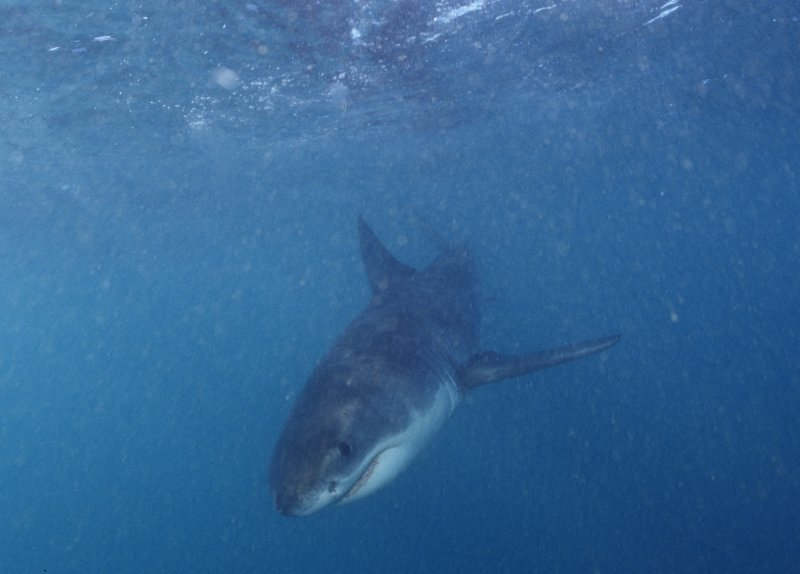Carcharodon_carcharias: (242, 207, 616, 530)
